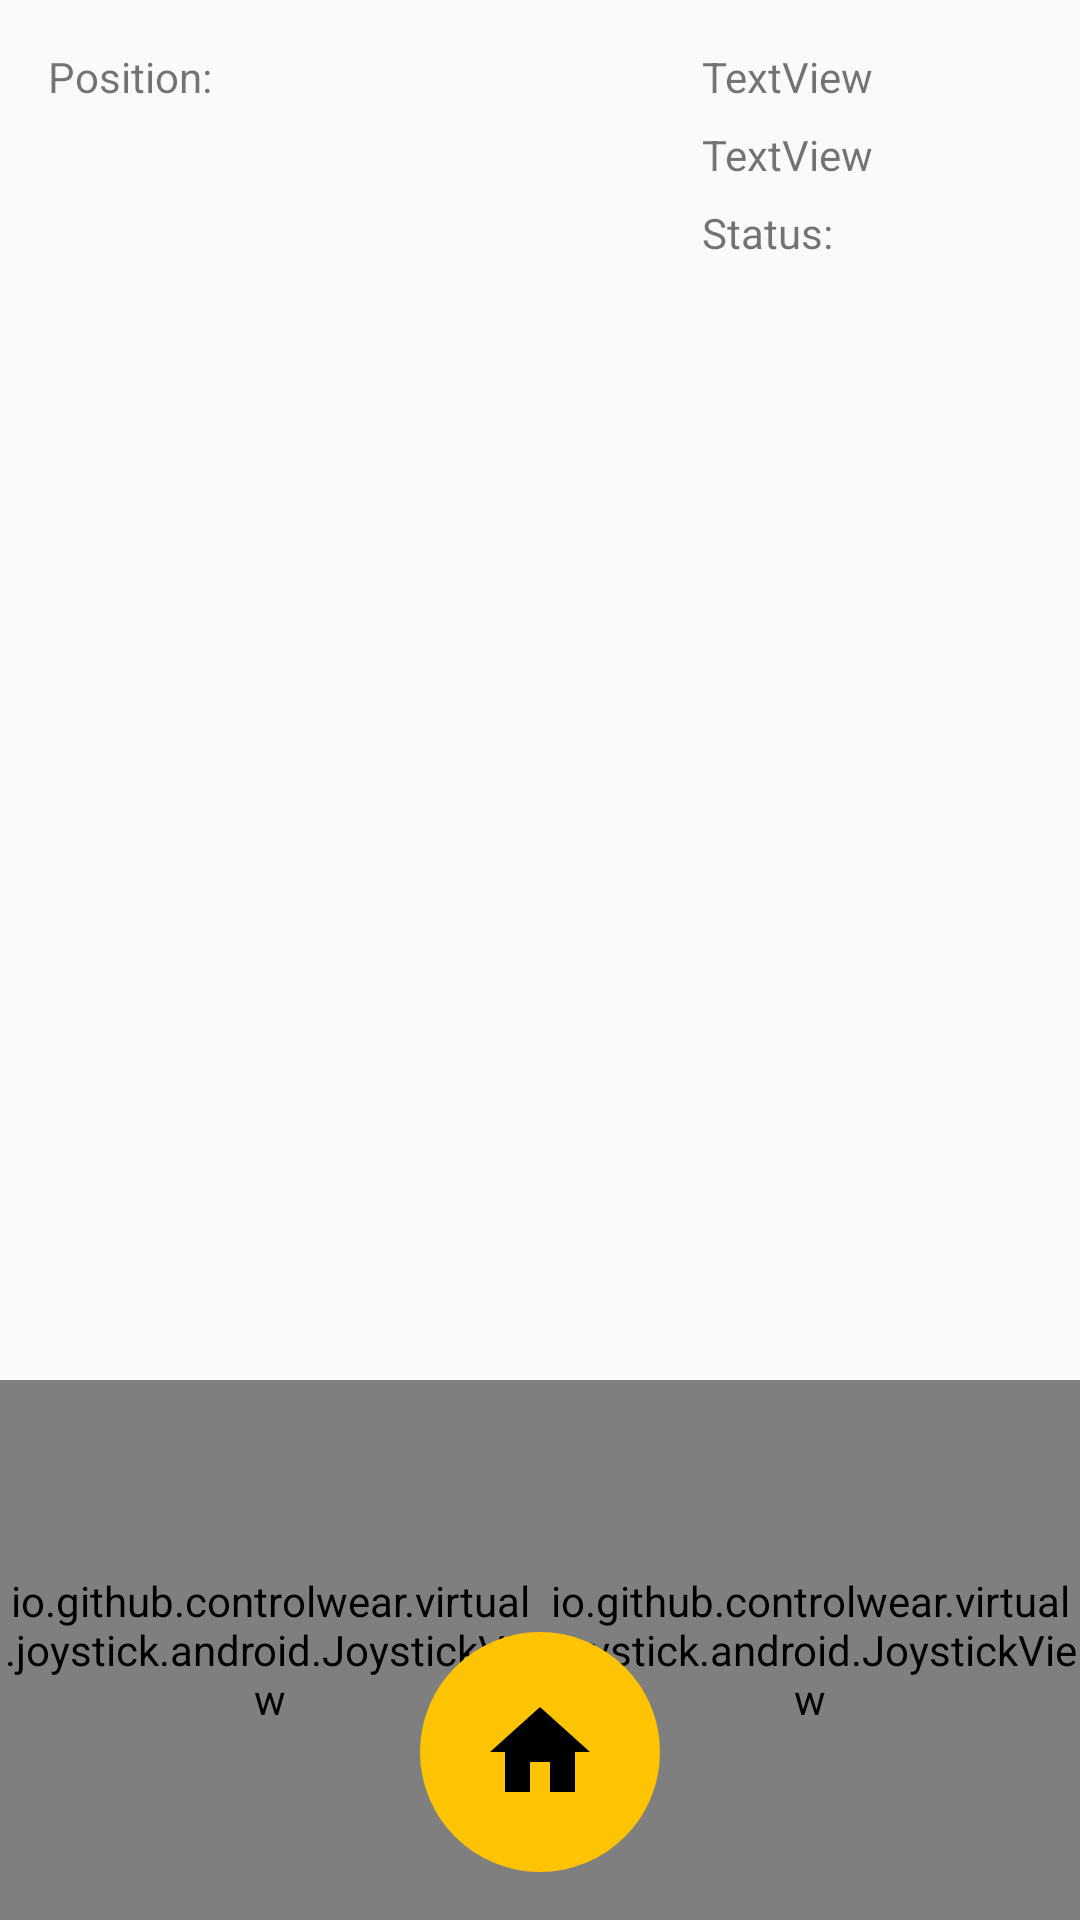

Screen size 1080px x 1920px. Icon name, then its center in pixels as point (x, y):
home: point (540, 1752)
